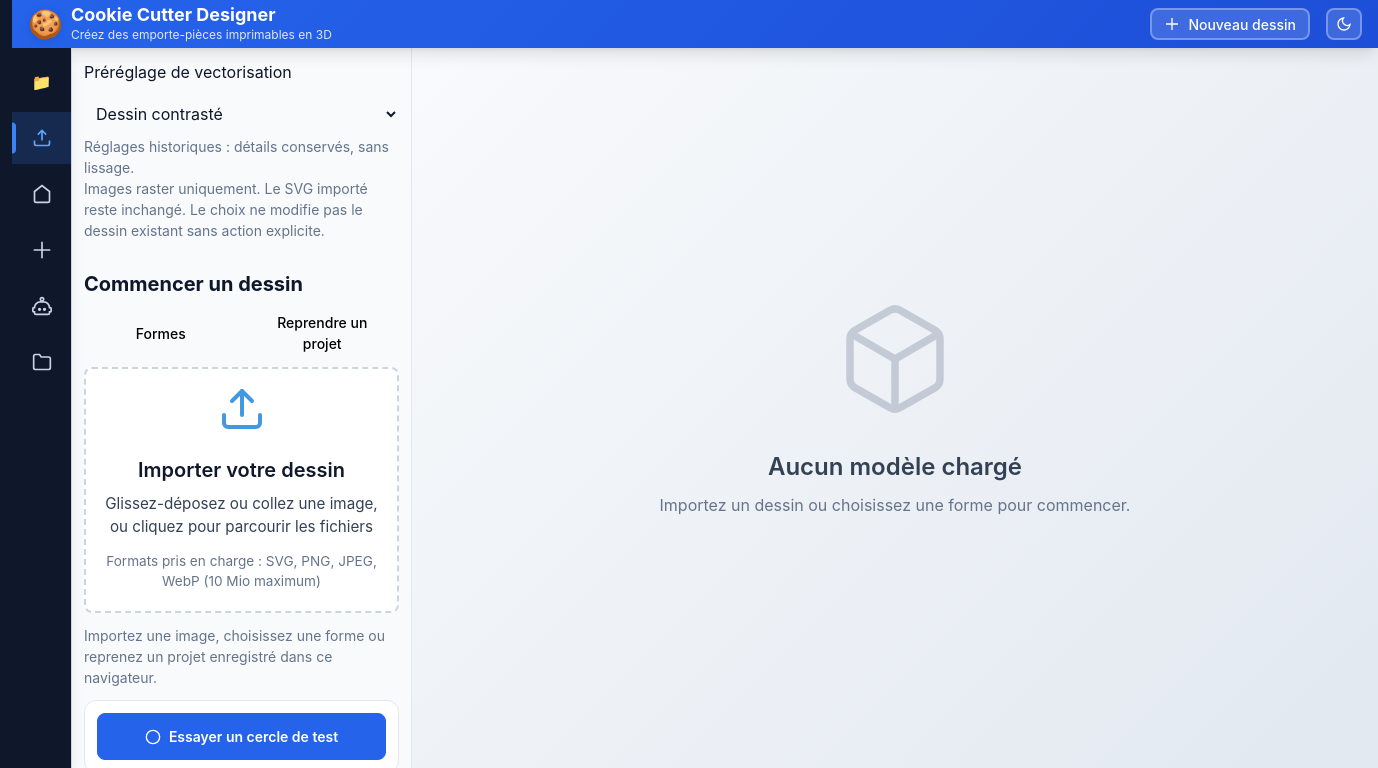
Test: keeps empty startup unobstructed and exposes the empty recovery list from Local projects
This screenshot has width=1378, height=768.
Click the button "📁". click: (42, 82)
box: [12,56,71,108]
(page scrolled)
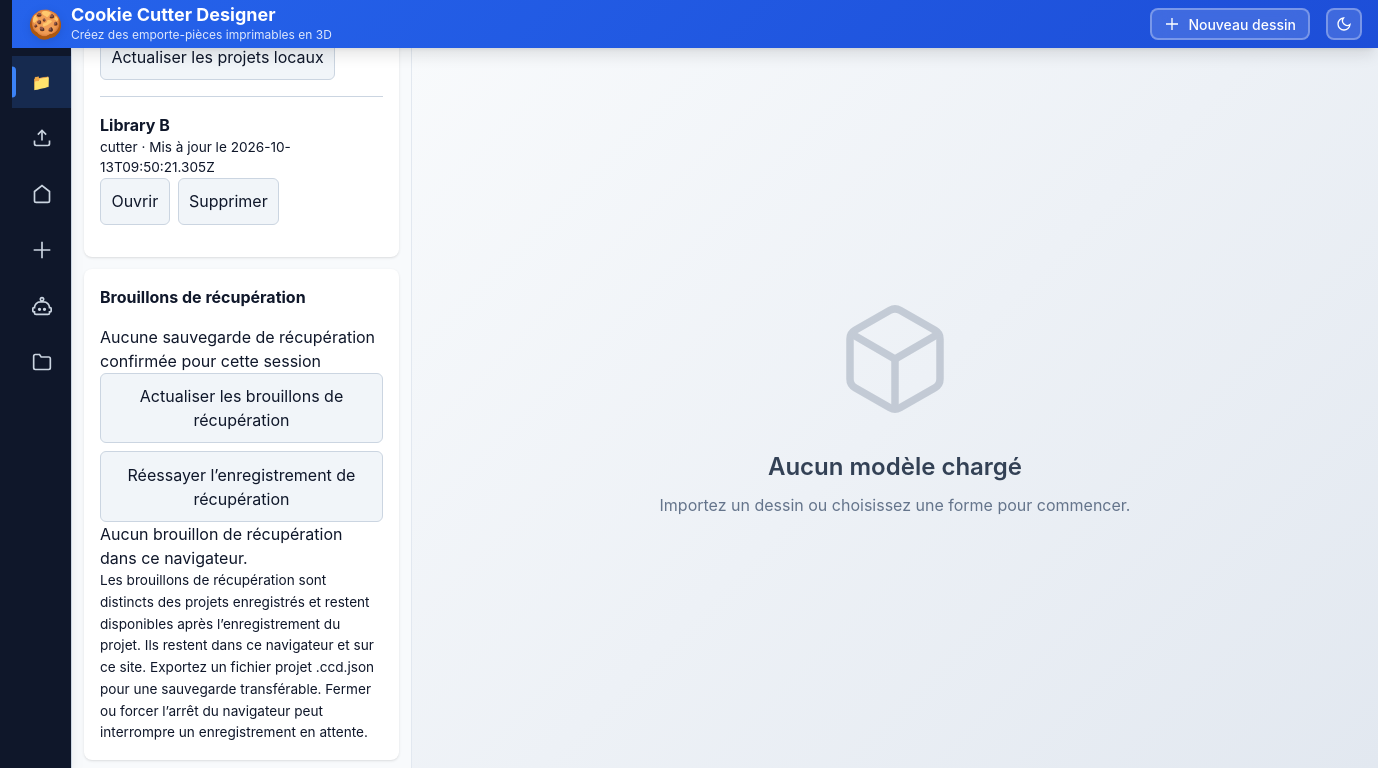
Expected: the text "Aucun brouillon de récupération dans ce navigateur" is shown, [100,524,342,568]
Expected: the button "Actualiser les brouillons de récupération" is enabled, [100,373,383,443]
